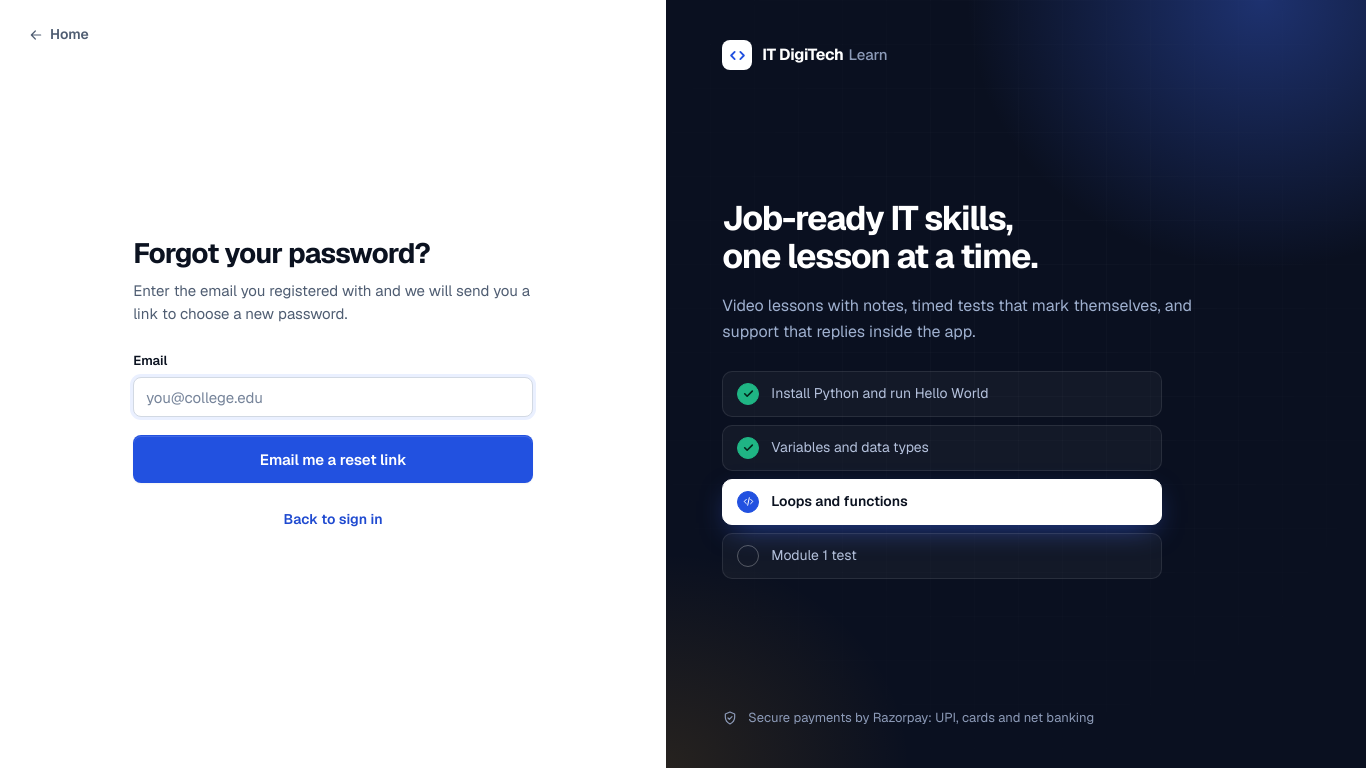
Test: student pages › submits the forgot-password form
In the field labelled "Email": (333, 397) x1=133 y1=377 x2=533 y2=417, type "stu@x.com"
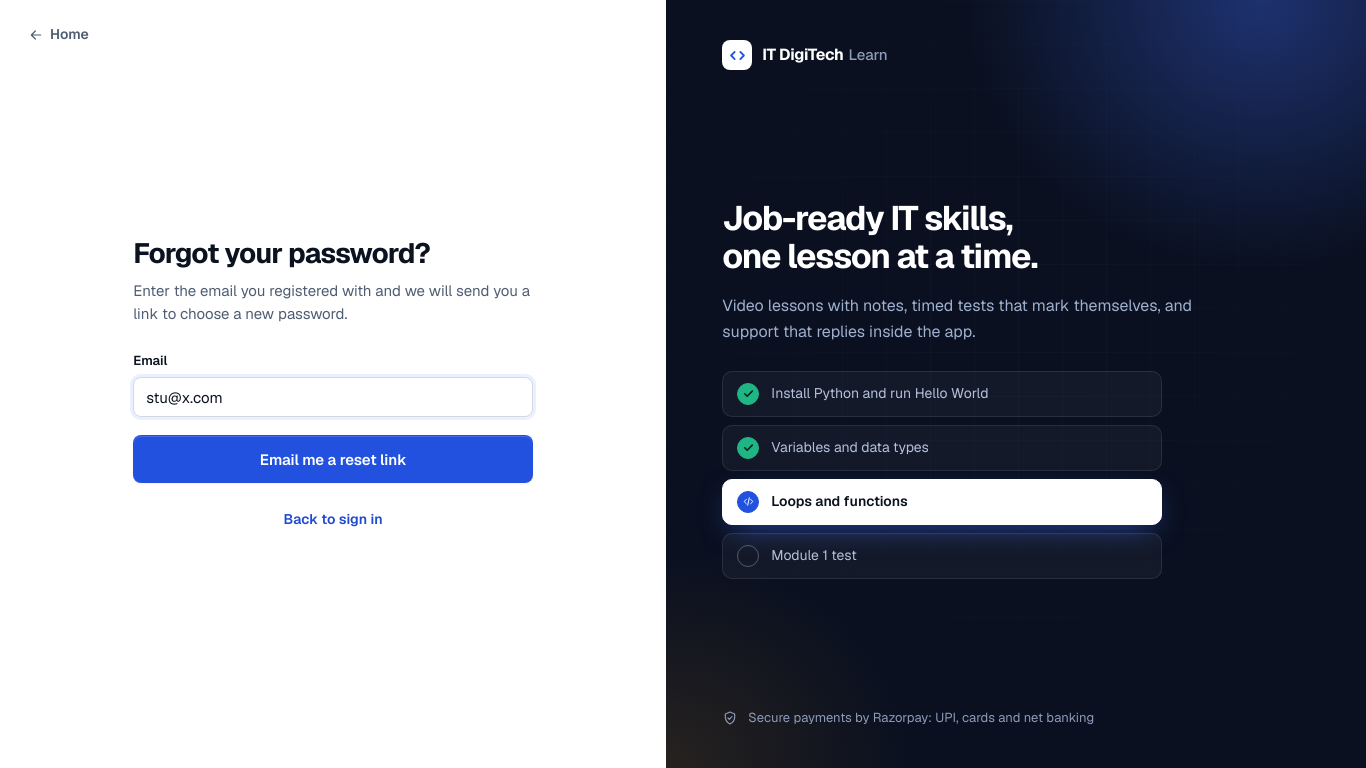
Click the button "Email me a reset link": (333, 459) x1=133 y1=435 x2=533 y2=483
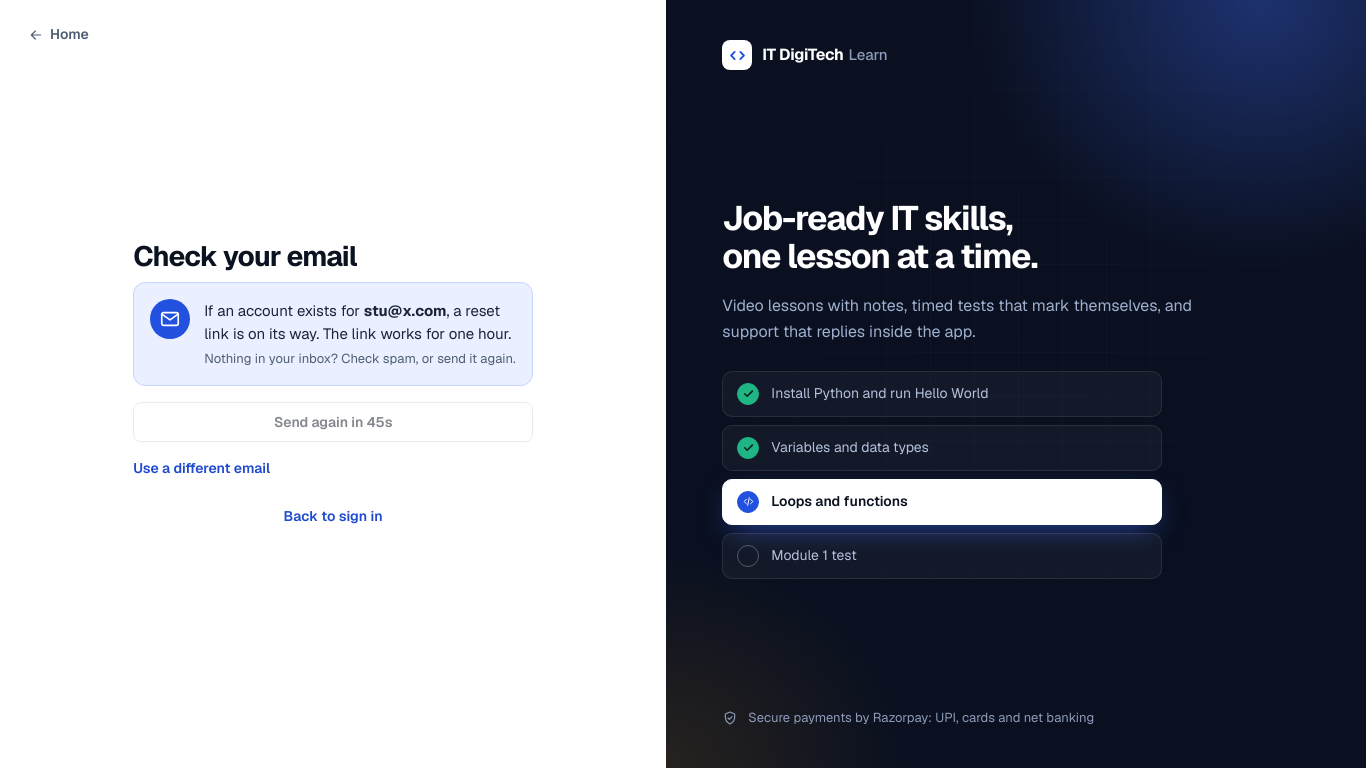
Now the heading "Check your email" is shown, box x1=133 y1=238 x2=357 y2=274
